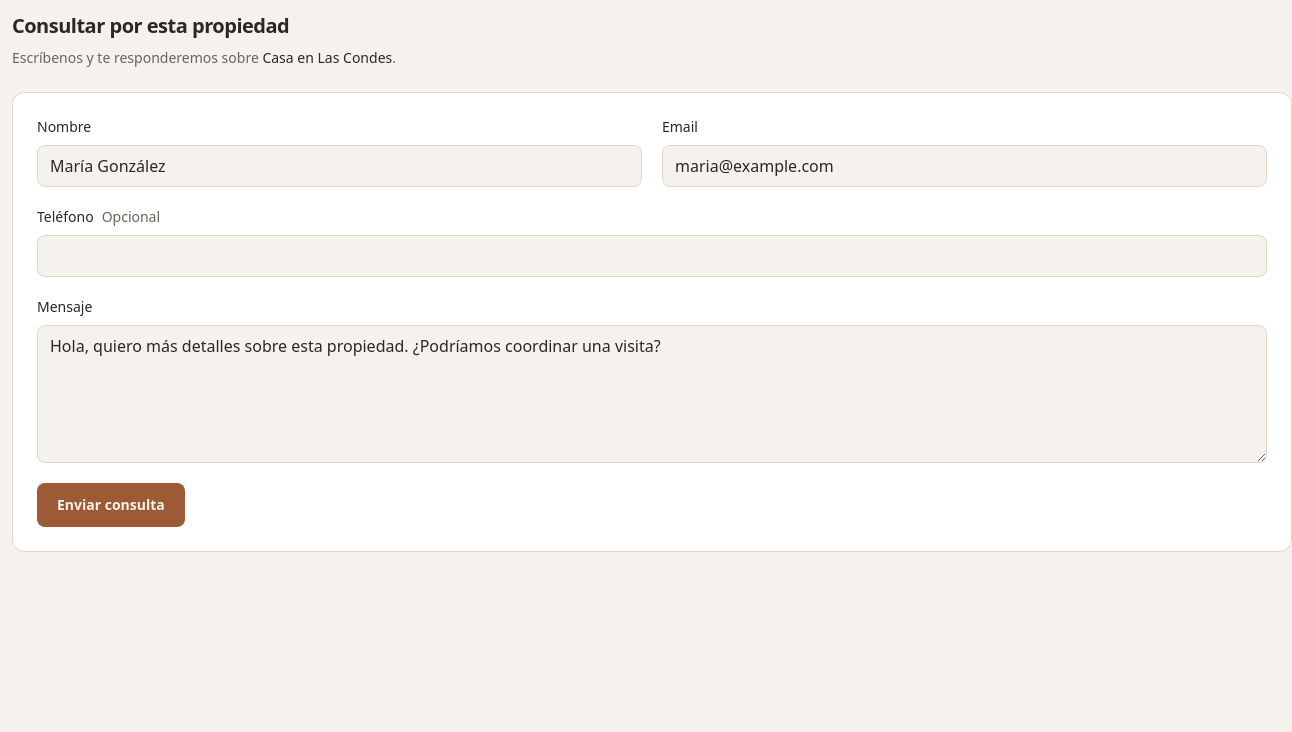
it: PropertyContactForm — con sesión iniciada › tras enviar vuelve a los datos de la sesión, no a campos vacíos
Click the button "Enviar consulta".
click(111, 505)  # box [37, 483, 185, 527]
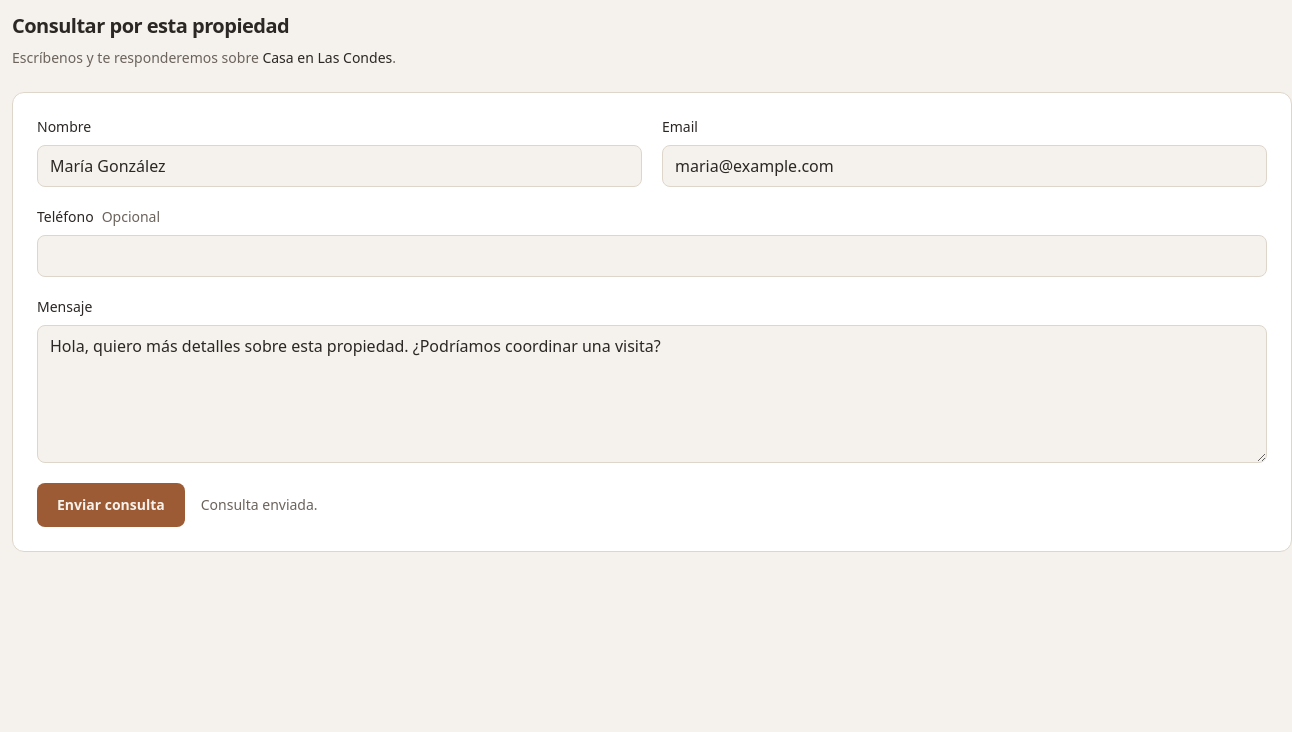
Expected: the field labelled "Nombre" holds "María González", [37, 145, 642, 187]
Now the text "Consulta enviada." is shown, box [201, 495, 318, 515]
